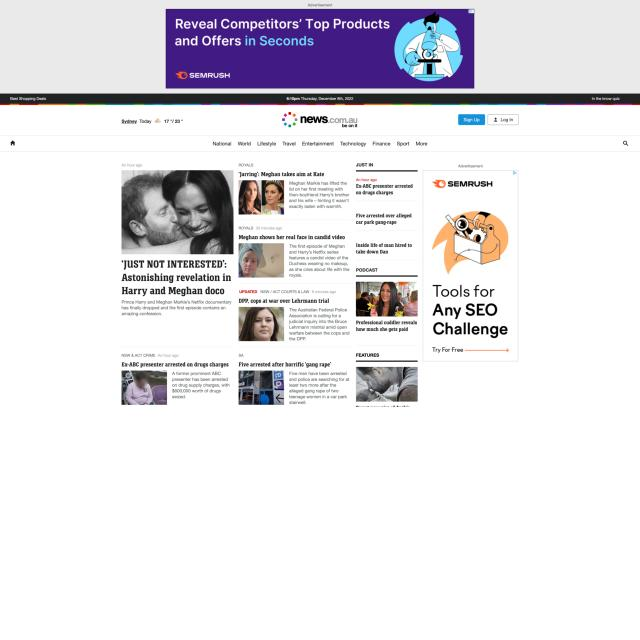CheckBox: (487, 113, 519, 126), (458, 114, 485, 125)
ImageView: (166, 7, 474, 88), (422, 170, 518, 361)
Input field: (120, 298, 232, 317)
QR code: (120, 118, 185, 125)
bag: (0, 93, 640, 151)
carousel: (622, 139, 630, 147), (9, 139, 16, 147)
copy: (122, 170, 234, 254), (356, 281, 418, 317), (356, 367, 417, 402), (238, 242, 284, 278), (121, 370, 168, 405), (238, 370, 284, 405), (238, 180, 284, 214), (239, 307, 284, 341)
date picker: (281, 111, 359, 129)
decoration: (208, 140, 430, 148)
image: (119, 257, 234, 297)
